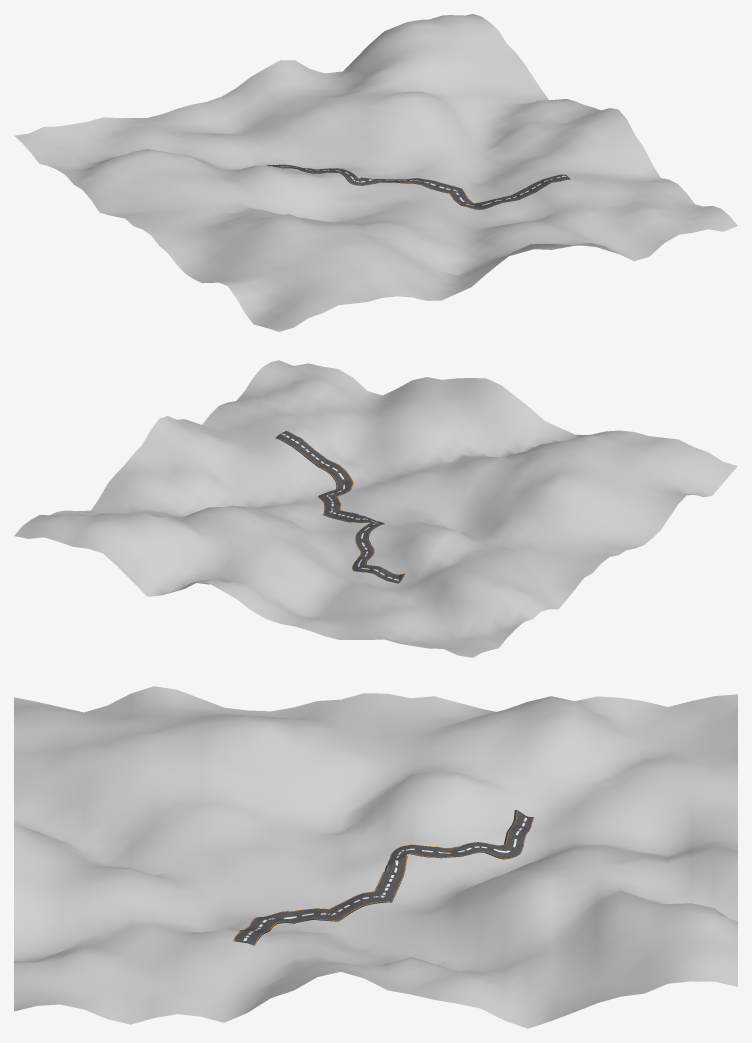
Rendered from Level10B1.fbx.
3 views of the same model, one above another, from view 1: azimuth 30°, elevation 25°; view 2: azimuth 150°, elevation 25°; view 3: azimuth 270°, elevation 25° (orthographic). The views are drawn at different scales.
Parts seen in each view (by area): view 1: Landscape, Plane.001, Plane.002; view 2: Landscape, Plane.001, Plane.002; view 3: Landscape, Plane.001, Plane.002.
Part boxes in pixels (bbox=[...]): Landscape: bbox=[14, 14, 737, 331]; Plane.001: bbox=[383, 174, 570, 209]; Plane.002: bbox=[266, 164, 387, 185]; Landscape: bbox=[14, 360, 737, 657]; Plane.001: bbox=[275, 431, 358, 522]; Plane.002: bbox=[349, 515, 404, 583]; Landscape: bbox=[14, 686, 737, 1028]; Plane.001: bbox=[233, 872, 403, 945]; Plane.002: bbox=[384, 809, 533, 876].
Size of the model in its own units: 43938 by 4893 by 43938.
